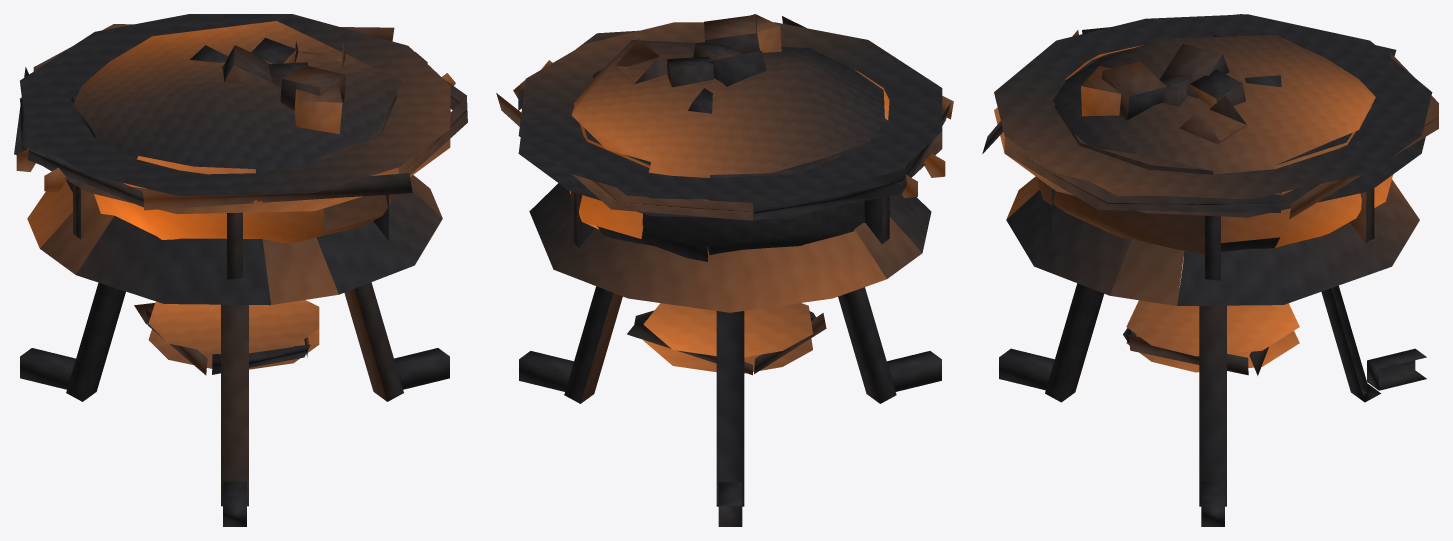
File: Brazier_IronEmbers_LOD1.glb
3 renders of one model, left to right at view 1: azimuth 30°, elevation 25°; view 2: azimuth 150°, elevation 25°; view 3: azimuth 270°, elevation 25°, orthographic.
Parts seen in each view (by area): view 1: Brazier_IronEmbers_LOD1; view 2: Brazier_IronEmbers_LOD1; view 3: Brazier_IronEmbers_LOD1.
Part boxes in pixels (x1=…): Brazier_IronEmbers_LOD1: x1=14, y1=14, x2=467, y2=526; Brazier_IronEmbers_LOD1: x1=496, y1=14, x2=953, y2=526; Brazier_IronEmbers_LOD1: x1=982, y1=14, x2=1438, y2=526.
Bounding box in the file's own units: 1.2 × 1.06 × 1.15.
1 material, 1 textured.
